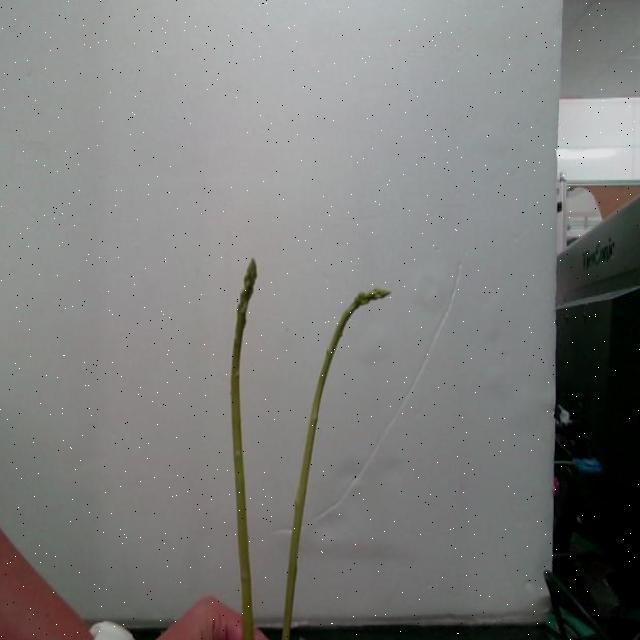aspargus: (281, 293, 365, 640), (231, 258, 259, 640)
